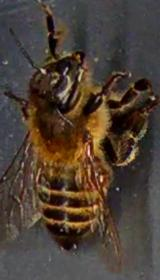varroa_mite: (84, 164, 108, 188)
